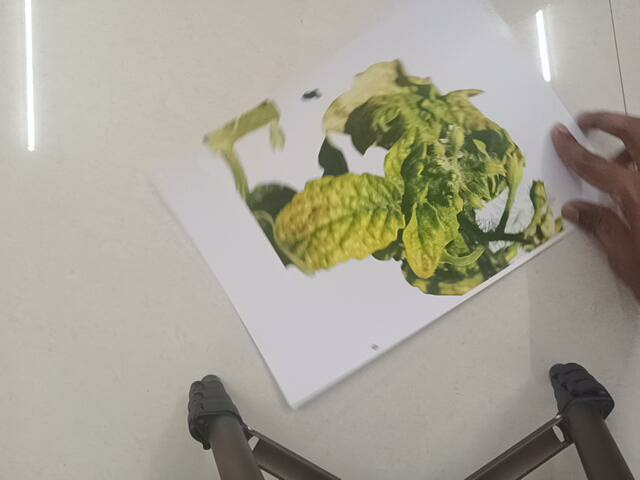Tomamto_Leaf_curl_virus: (292, 94, 566, 300)
